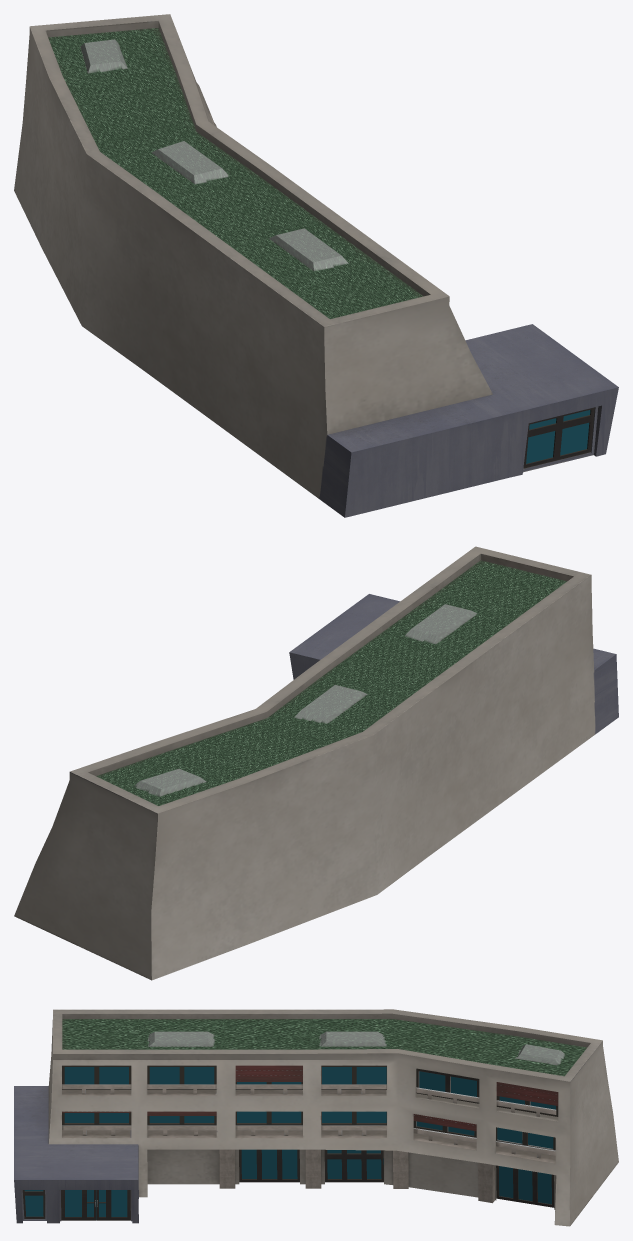
Rendered from Bat_Prado_6.fbx.
3 views of the same model, one above another, from view 1: azimuth 30°, elevation 25°; view 2: azimuth 150°, elevation 25°; view 3: azimuth 270°, elevation 25° (orthographic). The views are drawn at different scales.
Visible parts, largest first — view 1: Bat_Prado_6; view 2: Bat_Prado_6; view 3: Bat_Prado_6.
Part boxes in pixels (left/top/right/bottom): Bat_Prado_6: left=14, top=14, right=618, bottom=517; Bat_Prado_6: left=14, top=546, right=618, bottom=980; Bat_Prado_6: left=14, top=1009, right=618, bottom=1226.
Size of the model in its own units: 1818 by 1090 by 4843.
